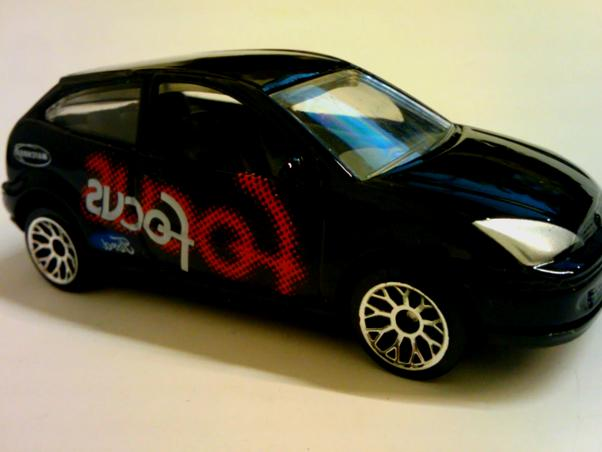toy-car: (0, 46, 602, 381)
